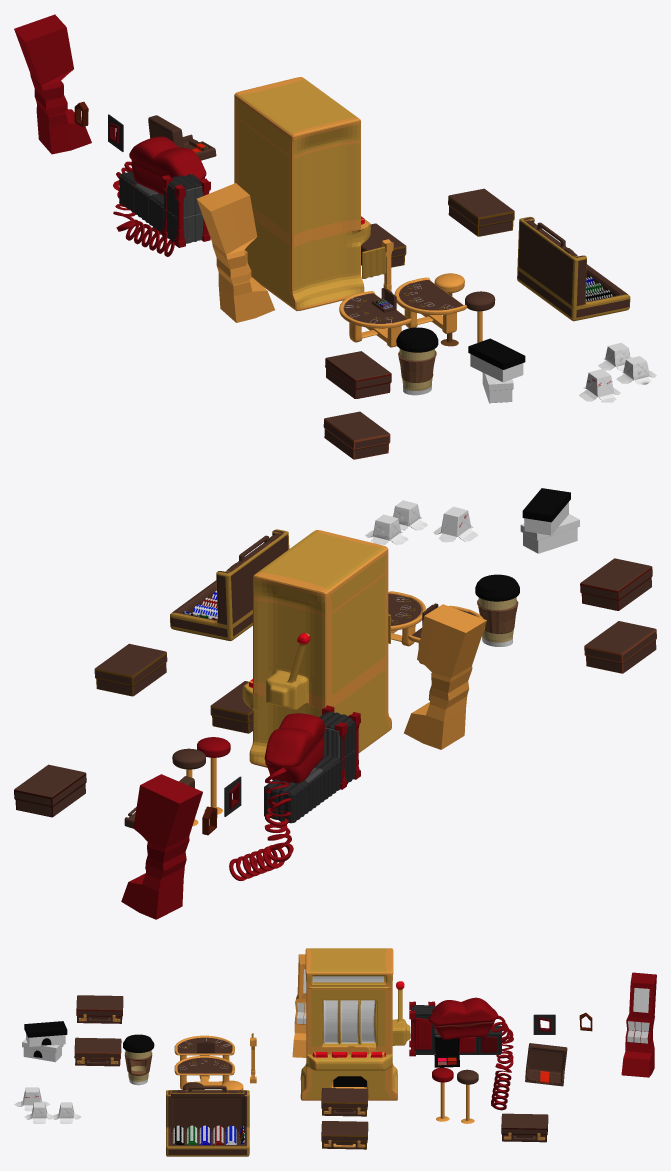
Rendered from New_Rat_York_To_Scale.fbx.
3 renders of one model, top to bottom at view 1: azimuth 30°, elevation 25°; view 2: azimuth 150°, elevation 25°; view 3: azimuth 270°, elevation 25°, orthographic. The views are drawn at different scales.
Parts seen in each view (by area): view 1: Cube.101, Cube.097, Wall.010, Wall.042, Cube.091, Cylinder.031, Cube.067, Cube.058, Cube.059, Cylinder, Cylinder.013, Cube.029 (+9 smaller); view 2: Cube.101, Wall.042, Wall.010, Cube.097, Cube.091, Cube.059, Cube.067, Cube.096, Cube.058, Cylinder, Plane, Cube.029 (+8 smaller); view 3: Cube.101, Cube.097, Wall.042, Cube.091, Cube.031, Cylinder.031, Cube.058, Cube.095, Cube.067, Cube.059, Cube.096, Cylinder (+15 smaller).
Boxes of the visible parts, bbox=[...] form: Cube.101: bbox=[234, 77, 370, 310]; Cube.097: bbox=[517, 216, 630, 321]; Wall.010: bbox=[196, 183, 274, 322]; Wall.042: bbox=[14, 14, 91, 154]; Cube.091: bbox=[129, 136, 206, 195]; Cylinder.031: bbox=[394, 277, 466, 333]; Cube.067: bbox=[323, 411, 390, 459]; Cube.058: bbox=[325, 351, 391, 398]; Cube.059: bbox=[448, 188, 514, 236]; Cylinder: bbox=[396, 327, 438, 395]; Cylinder.013: bbox=[339, 291, 411, 347]; Cube.029: bbox=[468, 338, 525, 382]; Cube.101: bbox=[242, 530, 391, 767]; Wall.042: bbox=[121, 774, 202, 919]; Wall.010: bbox=[404, 604, 486, 749]; Cube.097: bbox=[170, 529, 289, 641]; Cube.091: bbox=[264, 713, 324, 783]; Cube.059: bbox=[94, 643, 167, 696]; Cube.067: bbox=[584, 621, 656, 673]; Cube.096: bbox=[14, 764, 86, 817]; Cube.058: bbox=[580, 558, 652, 610]; Cylinder: bbox=[475, 574, 519, 646]; Plane: bbox=[229, 767, 293, 880]; Cube.029: bbox=[522, 488, 570, 535]; Cube.101: bbox=[300, 948, 410, 1100]; Cube.097: bbox=[166, 1086, 249, 1156]; Wall.042: bbox=[621, 972, 656, 1077]; Cube.091: bbox=[428, 997, 497, 1039]; Cube.031: bbox=[525, 1043, 567, 1086]; Cylinder.031: bbox=[174, 1055, 234, 1089]; Cube.058: bbox=[76, 995, 123, 1023]; Cube.095: bbox=[321, 1088, 368, 1116]; Cube.067: bbox=[74, 1037, 121, 1066]; Cube.059: bbox=[321, 1121, 368, 1149]; Cube.096: bbox=[501, 1113, 548, 1142]; Cylinder: bbox=[123, 1034, 154, 1085].
Size of the model in its own units: 136416 by 83692 by 302968.
